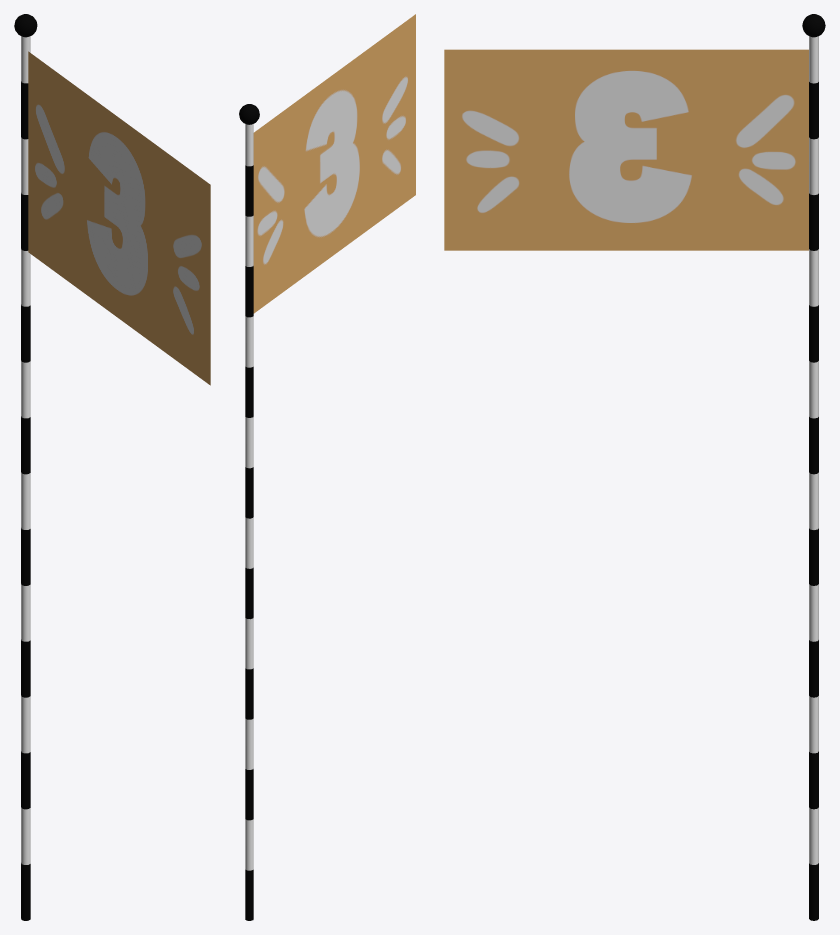
Rendered from FlagPole.FBX.
The picture shows the model from 3 angles, left to right: view 1: azimuth 30°, elevation 25°; view 2: azimuth 150°, elevation 25°; view 3: azimuth 270°, elevation 25°; orthographic projection. The views are drawn at different scales.
Parts seen in each view (by area): view 1: Flag, flag pole; view 2: Flag, flag pole; view 3: Flag, flag pole.
Boxes of the visible parts, x1,y1,x2,y2 form: Flag: (28, 51, 210, 385); flag pole: (14, 14, 37, 920); Flag: (253, 14, 415, 313); flag pole: (239, 104, 259, 920); Flag: (444, 49, 808, 250); flag pole: (802, 14, 825, 920).
Size of the model in its own units: 9.49 by 405 by 155.
